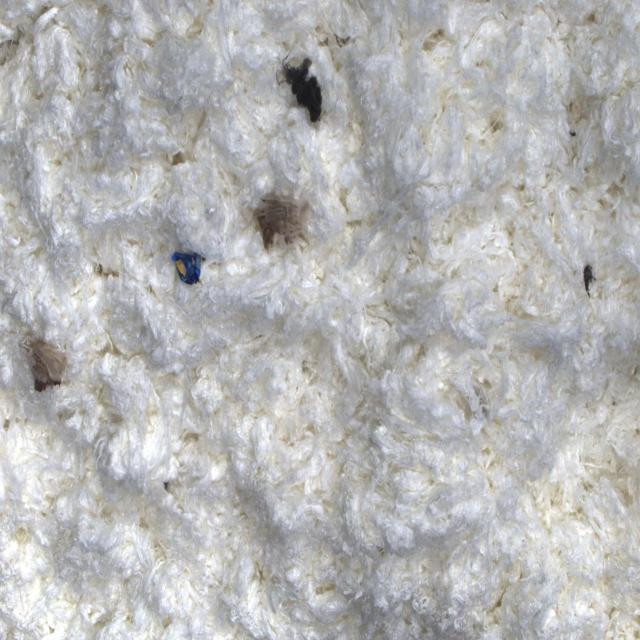dust: (272, 45, 328, 128), (23, 331, 88, 402), (257, 192, 311, 259), (168, 238, 212, 294), (574, 250, 604, 308)
